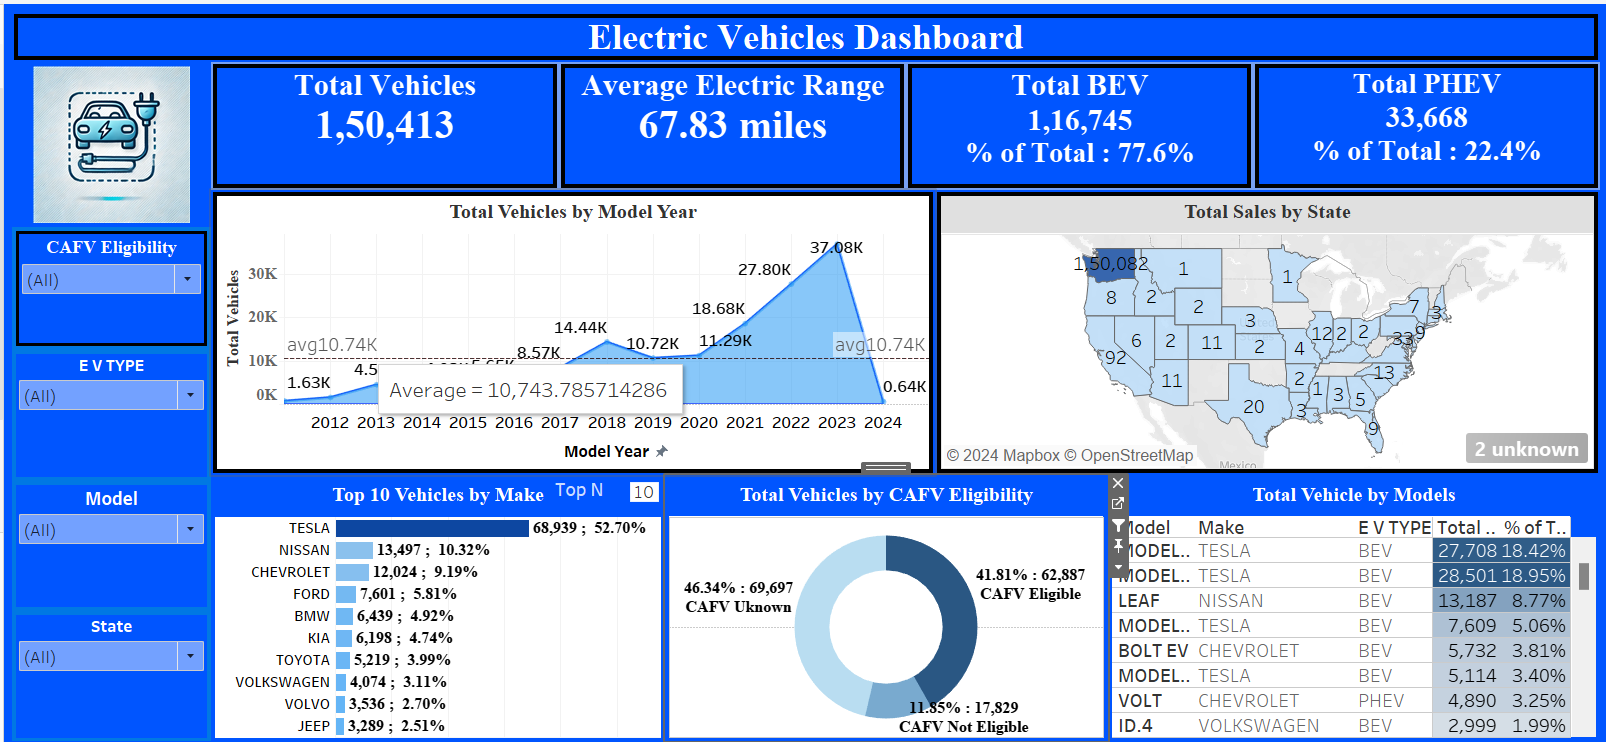

This screenshot's page, from the dashboard's own definition file:
{"tool":"tableau","page":{"name":"Dashboard 1","canvas":[1000,1000],"units":"permille","ordinal":0},"visuals":[{"type":"title","box":[5,10.7,990,67]},{"type":"image","param":"Image/DALL·E 2024-11-23 19.16.22 - A clean and modern electric vehicle (EV) icon","box":[5,77.7,124.1,221.2]},{"type":"worksheet","title":"Total Vehicles","mark":"Automatic","box":[129.1,77.8,217,171.6]},{"type":"worksheet","title":"Average Electric Range","mark":"Automatic","box":[346,77.8,216.3,171.6]},{"type":"worksheet","title":"Total BEV","mark":"Automatic","box":[562.3,77.8,216.3,171.6]},{"type":"worksheet","title":"Total PHEV","mark":"Automatic","box":[778.7,77.8,216.3,171.6]},{"type":"worksheet","title":"Total Vehicles by Model Year","mark":"Area","rows":["Calculation_1049620204313071616","Calculation_1049620204313071616"],"cols":["Model Year"],"box":[129.1,249.3,451.4,382]},{"type":"worksheet","title":"Total Sales by State","mark":"Multipolygon","box":[580.4,249.3,414.6,382]},{"type":"filter","title":"Total Sales by State","param":"[federated.0bb8ac50y2pmu01biribp16773an].[none:Clean Alternative Fuel Vehicle (C","box":[5,298.9,124.1,164.9]},{"type":"filter","title":"Top 10 vehicles by Make","param":"[federated.0bb8ac50y2pmu01biribp16773an].[none:Electric Vehicle Type:nk]","box":[5,463.8,124.1,175.2]},{"type":"worksheet","title":"Top 10 vehicles by Make","mark":"Automatic","rows":["Make"],"cols":["Calculation_1049620204313071616"],"box":[129.1,631.4,283,357.9]},{"type":"worksheet","title":"Total Vehicles by CAFV Eligibility","mark":"Pie","rows":["Calculation_167477627432144898","Calculation_167477627432144898"],"box":[412.1,631.4,276.2,357.9]},{"type":"worksheet","title":"Total Vehicle by Models","mark":"Square","rows":["Model","Make","Electric Vehicle Type"],"box":[688.3,631.4,306.7,357.9]},{"type":"parameter","param":"[Parameters].[Parameter 1]","box":[343.5,636.7,66.7,36.2]},{"type":"filter","title":"Total Vehicles by Model Year","param":"[federated.0bb8ac50y2pmu01biribp16773an].[none:Model:nk]","box":[5,639,124.1,175.2]},{"type":"filter","title":"Top 10 vehicles by Make","param":"[federated.0bb8ac50y2pmu01biribp16773an].[none:State:nk]","box":[5,814.1,124.1,175.2]}]}

Visuals, with their boxes on the dashboard's canvas, which has no fixed pixel size, in thousandths of its width and height (x1, y1, x2, y2). These are canvas units, not pixel positions in the 1606x742 screenshot, which may show the page scaled, cropped or inside an application window:
title: [5, 11, 995, 78]
image: [5, 78, 129, 299]
"Total Vehicles" worksheet: [129, 78, 346, 249]
"Average Electric Range" worksheet: [346, 78, 562, 249]
"Total BEV" worksheet: [562, 78, 779, 249]
"Total PHEV" worksheet: [779, 78, 995, 249]
"Total Vehicles by Model Year" worksheet (Area marks): [129, 249, 580, 631]
"Total Sales by State" worksheet (Multipolygon marks): [580, 249, 995, 631]
"Total Sales by State" filter: [5, 299, 129, 464]
"Top 10 vehicles by Make" filter: [5, 464, 129, 639]
"Top 10 vehicles by Make" worksheet: [129, 631, 412, 989]
"Total Vehicles by CAFV Eligibility" worksheet (Pie marks): [412, 631, 688, 989]
"Total Vehicle by Models" worksheet (Square marks): [688, 631, 995, 989]
parameter: [344, 637, 410, 673]
"Total Vehicles by Model Year" filter: [5, 639, 129, 814]
"Top 10 vehicles by Make" filter: [5, 814, 129, 989]
